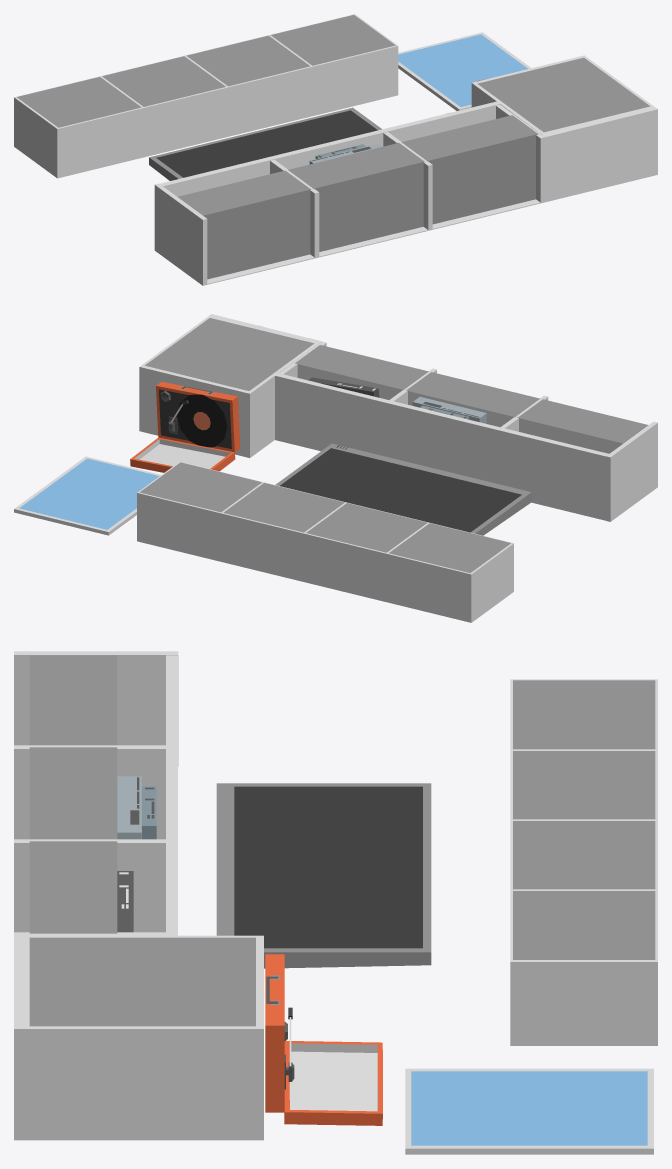
Rendered from tv-wall-b.glb.
3 renders of one model, top to bottom at view 1: azimuth 30°, elevation 25°; view 2: azimuth 150°, elevation 25°; view 3: azimuth 270°, elevation 25°, orthographic. The views are drawn at different scales.
Visible parts, largest first — view 1: tv_wall_013; view 2: tv_wall_013; view 3: tv_wall_013.
Part boxes in pixels (left/top/right/bottom): tv_wall_013: left=14, top=14, right=657, bottom=285; tv_wall_013: left=14, top=314, right=657, bottom=622; tv_wall_013: left=14, top=651, right=657, bottom=1154.
Size of the model in its own units: 3.1 by 0.4424 by 2.17.
Materials: 1 (1 with a texture image).
